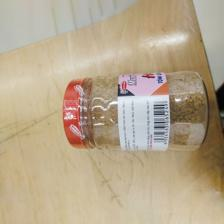Hao_hao: (62, 69, 209, 153)
